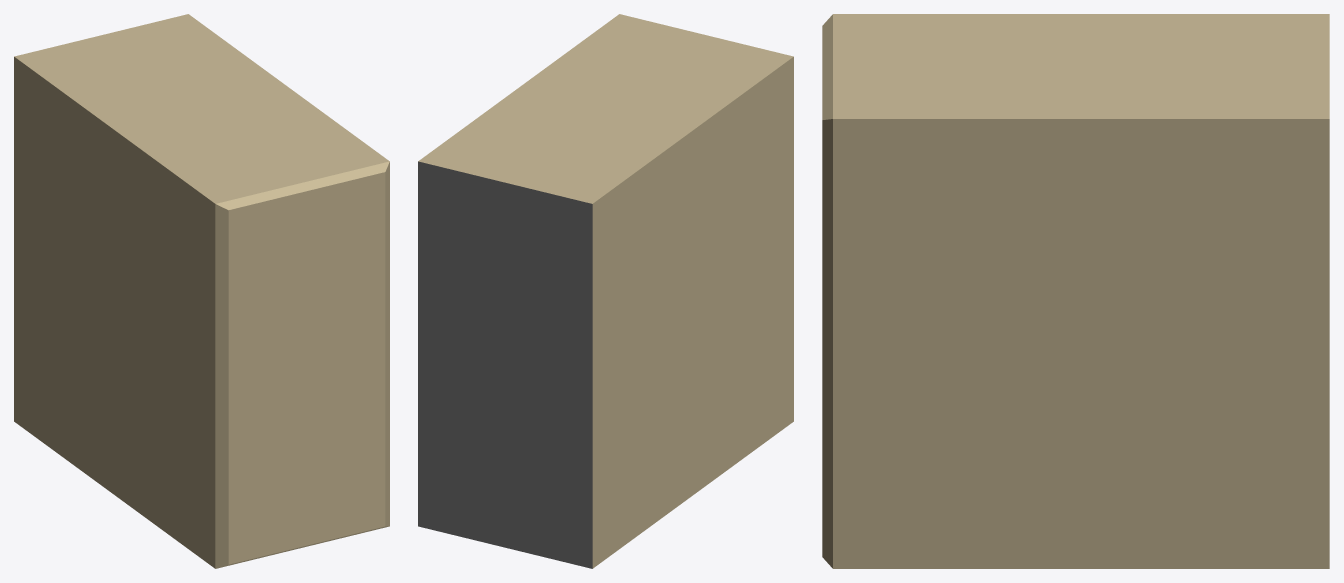
The model's file is Tower.glb.
3 renders of one model, left to right at view 1: azimuth 30°, elevation 25°; view 2: azimuth 150°, elevation 25°; view 3: azimuth 270°, elevation 25°, orthographic. The views are drawn at different scales.
Parts seen in each view (by area): view 1: Tower; view 2: Tower; view 3: Tower.
Boxes of the visible parts, x1,y1,x2,y2 form: Tower: (14,14,389,568); Tower: (418,14,793,568); Tower: (822,14,1329,568).
Bounding box in the file's own units: 0.2 × 0.4 × 0.4086.
